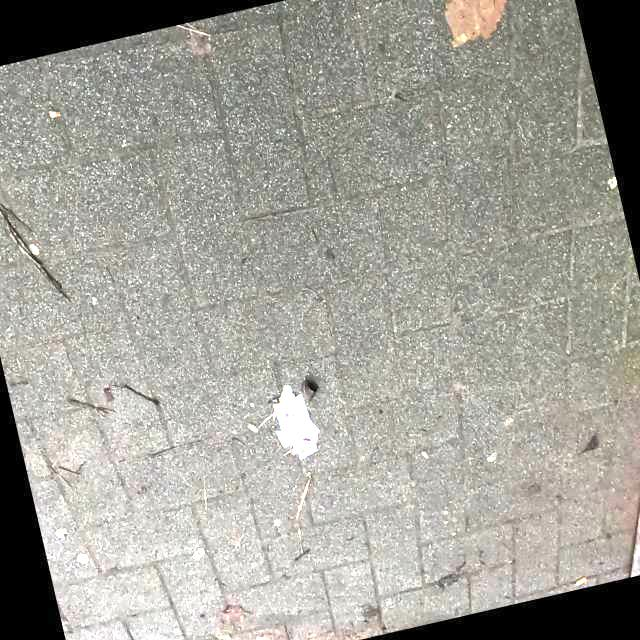Paper: (269, 384, 321, 461)
